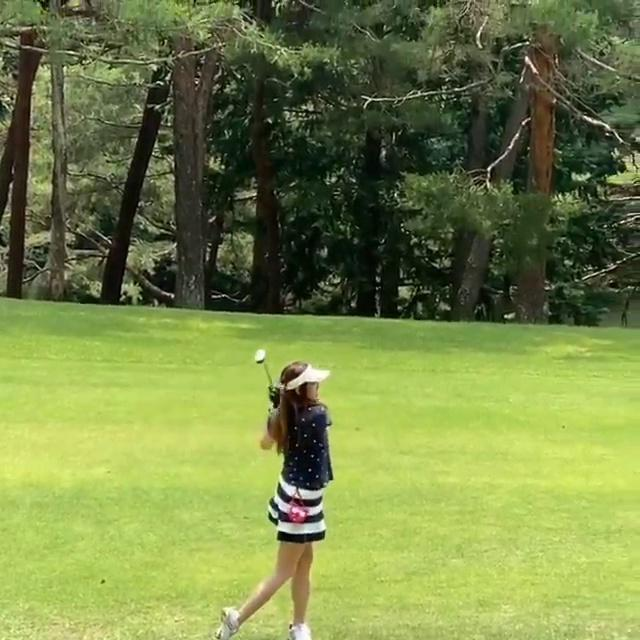ClubHead: (254, 350, 266, 363)
